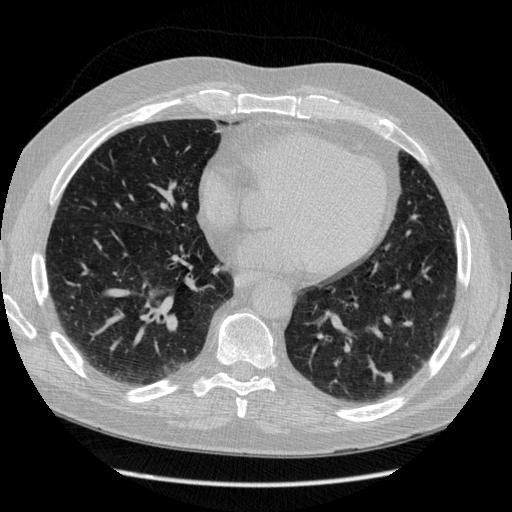nodule: (382, 371, 395, 384)
